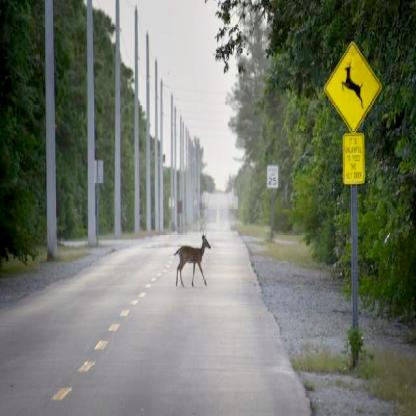Deer: (173, 229, 212, 289)
